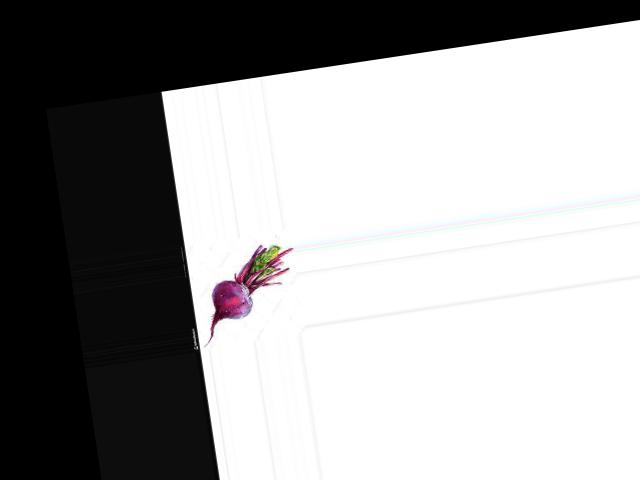beet: (190, 240, 305, 346)
